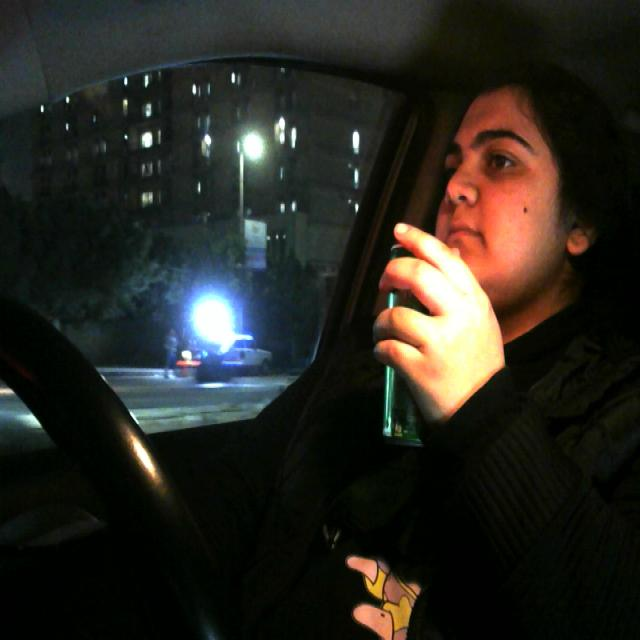drinking: (374, 242, 442, 456)
